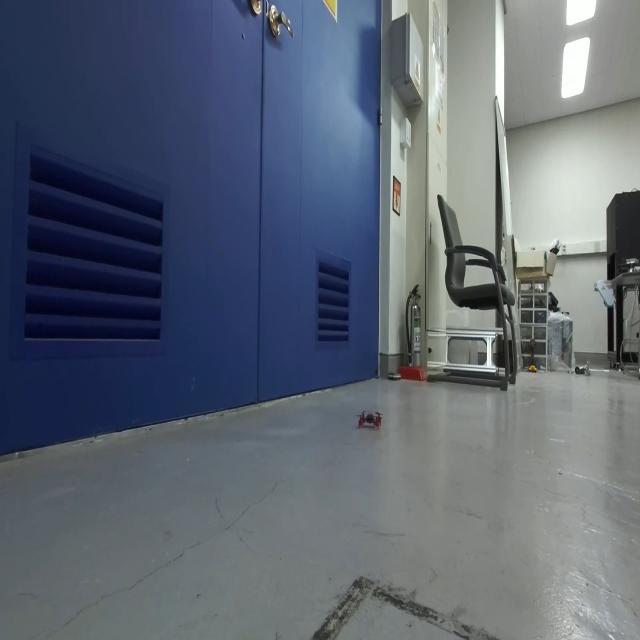crazyflie: (354, 402, 386, 436)
